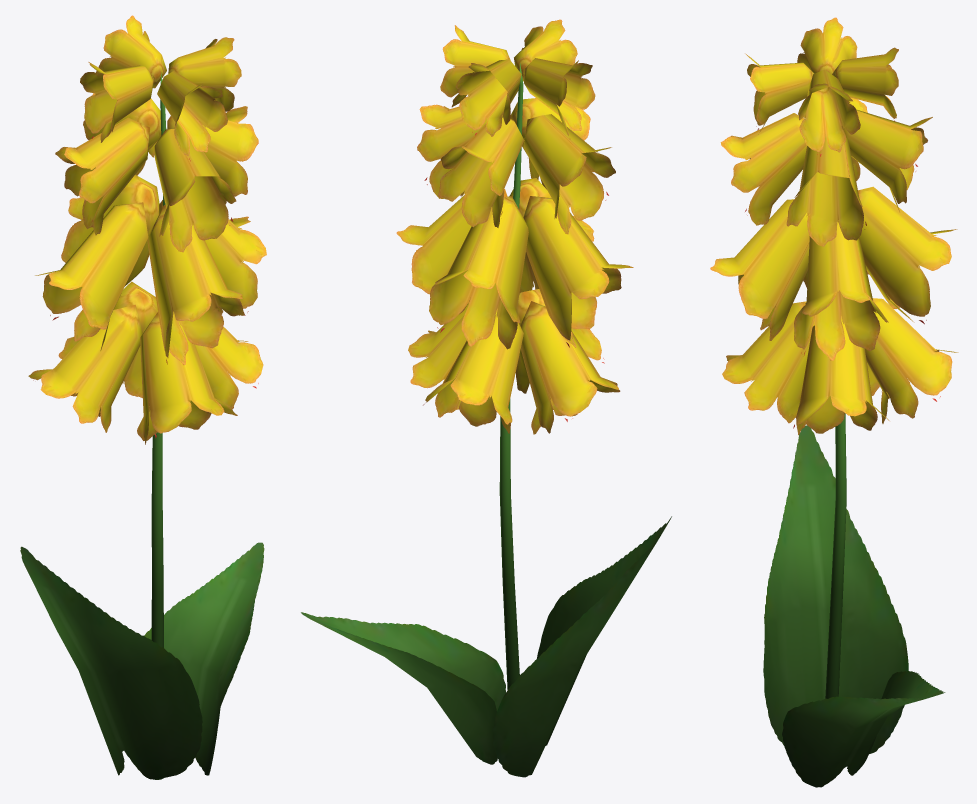
File: sn_flower_4_single.glb
3 views of the same model, side by side, from view 1: azimuth 30°, elevation 25°; view 2: azimuth 150°, elevation 25°; view 3: azimuth 270°, elevation 25° (orthographic).
Visible parts, largest first — view 1: Flower_4_Single; view 2: Flower_4_Single; view 3: Flower_4_Single.
Boxes of the visible parts, bbox=[...] form: Flower_4_Single: bbox=[20, 15, 266, 779]; Flower_4_Single: bbox=[301, 19, 671, 777]; Flower_4_Single: bbox=[710, 17, 958, 787].
Size of the model in its own units: 1.07 by 2.42 by 0.7729.
Materials: 2 (2 with a texture image).
